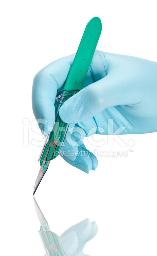scalpel: (32, 16, 102, 196)
